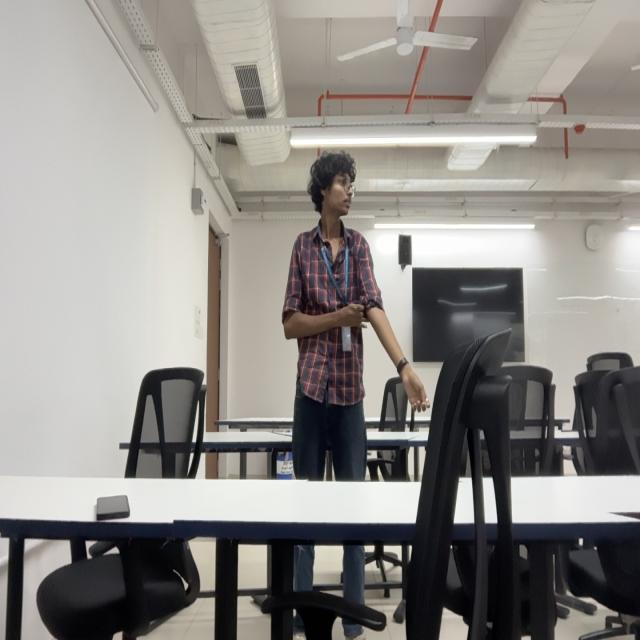darshan: (306, 151, 361, 221)
